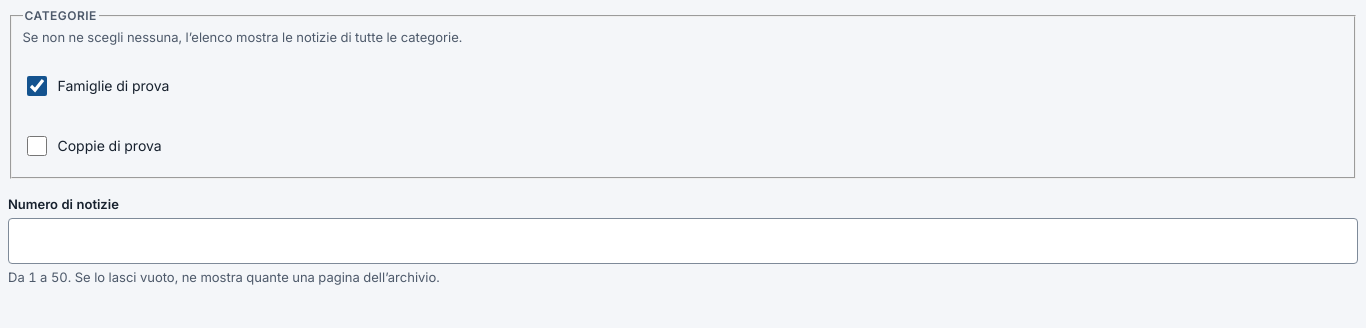
Test: pannello del blocco «Elenco di contenuti» (DR-320) › fuori dai limiti il numero resta nel campo con l’errore e il blocco non cambia
Later steps or results of the test are not shown.
Type "0" into the number field labelled "Numero di notizie". click: (683, 241)
box: [8,218,1358,264]
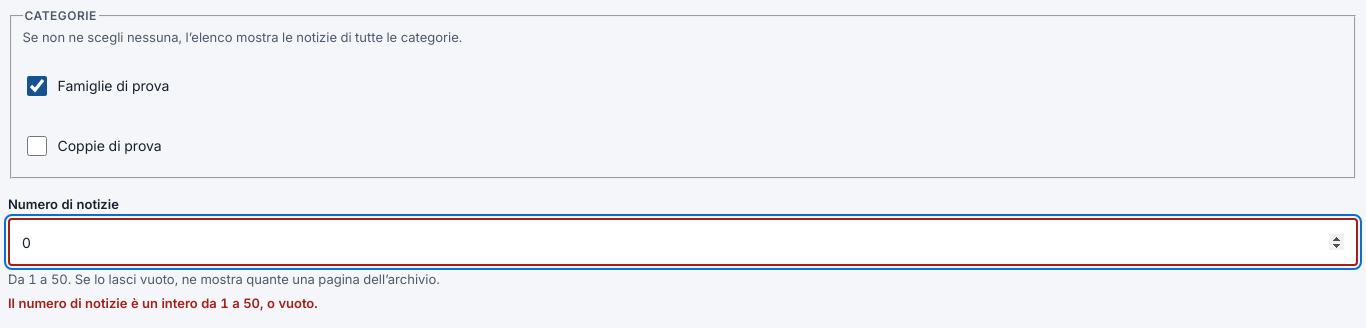
Check: the text "Il numero di notizie è un intero da 1 a 50, o vuoto." is shown, box [8,295,318,311]
